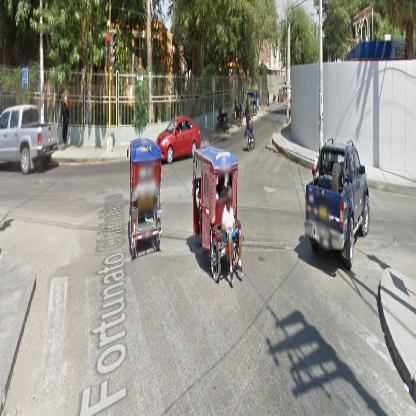Moto: (245, 109, 256, 152)
Peaton: (222, 193, 243, 280)
Pista: (2, 105, 416, 415)
Vehiculo: (306, 140, 372, 269), (192, 143, 243, 287), (129, 139, 163, 258), (2, 107, 59, 175), (157, 117, 203, 165)
